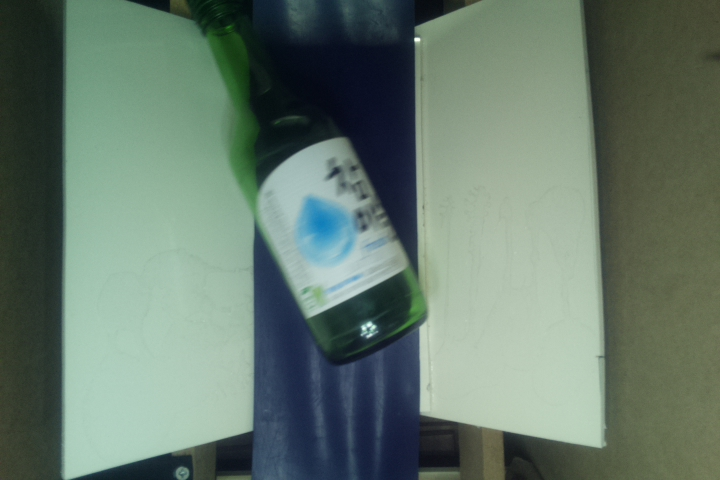soju: (177, 1, 432, 368)
